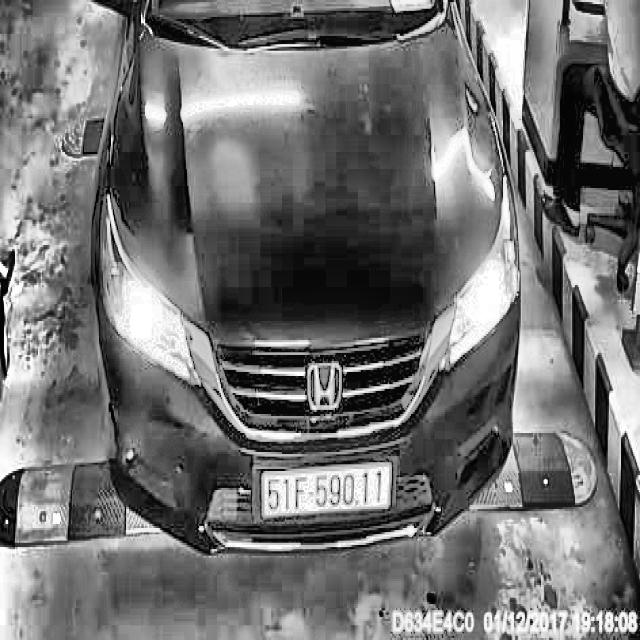plate: (256, 455, 395, 525)
